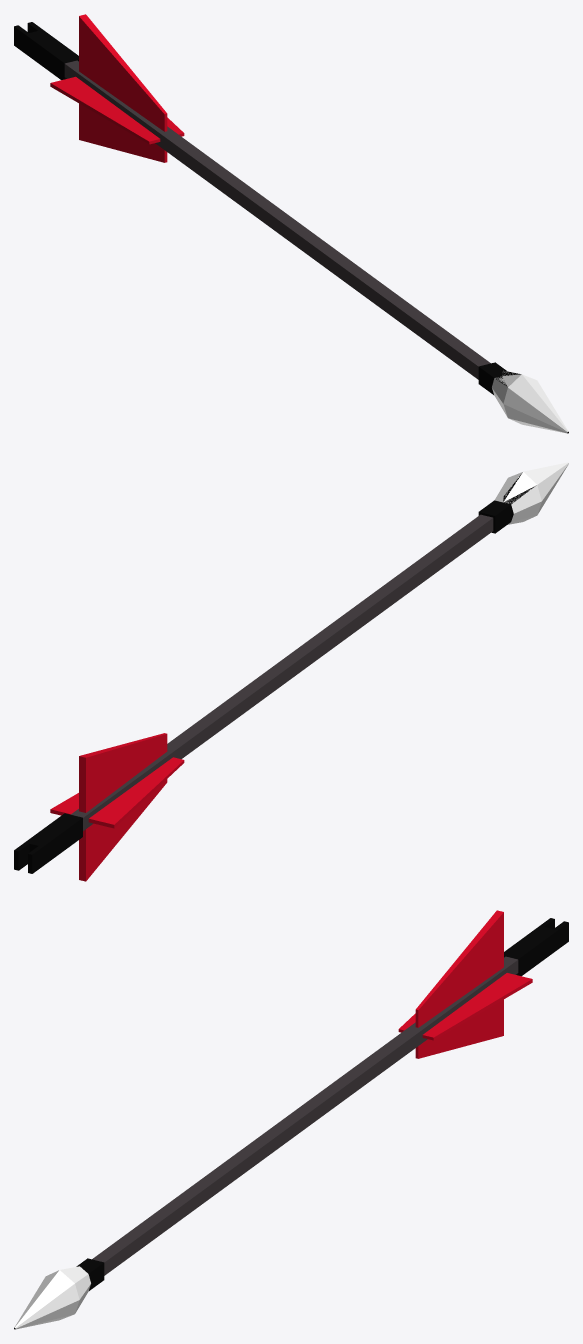
File: arrow_reverse2.fbx
3 views of the same model, one above another, from view 1: azimuth 30°, elevation 25°; view 2: azimuth 150°, elevation 25°; view 3: azimuth 330°, elevation 25° (orthographic).
Parts seen in each view (by area): view 1: arrow; view 2: arrow; view 3: arrow.
Boxes of the visible parts, x1,y1,x2,y2 form: arrow: (14,14,568,433); arrow: (14,462,568,881); arrow: (14,910,568,1329).
Size of the model in its own units: 8.14 by 1.02 by 0.5502.
